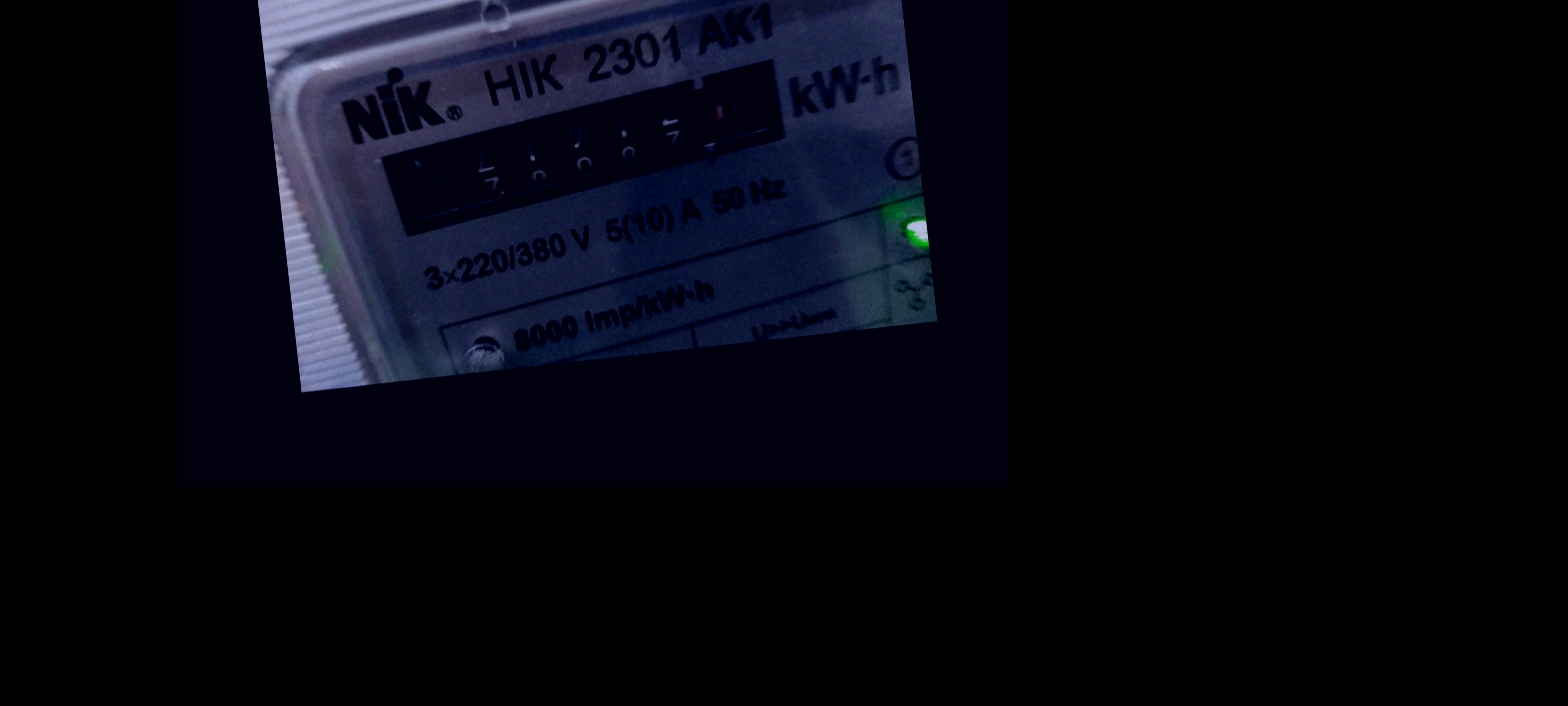0: (418, 148, 450, 187)
1: (705, 79, 732, 124)
2: (466, 133, 499, 175), (652, 88, 684, 128)
7: (606, 99, 636, 142), (515, 125, 542, 165)
9: (561, 113, 591, 150)
screen: (358, 46, 824, 249)
